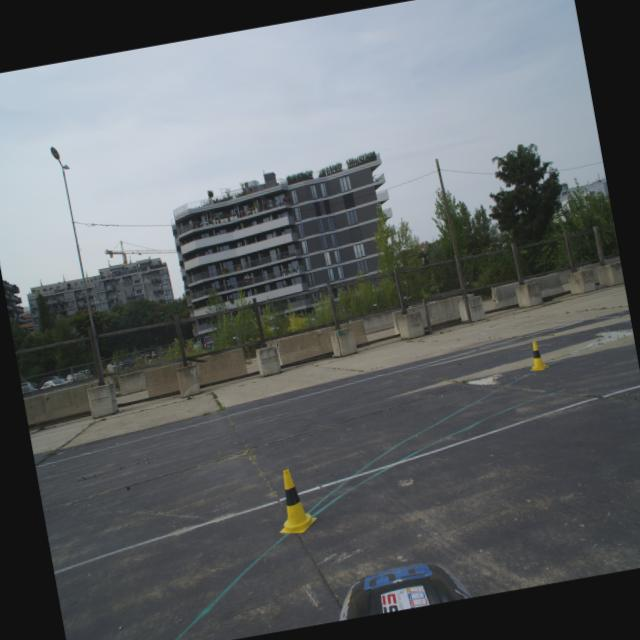yellow_cone: (269, 465, 319, 536), (525, 339, 549, 372)
